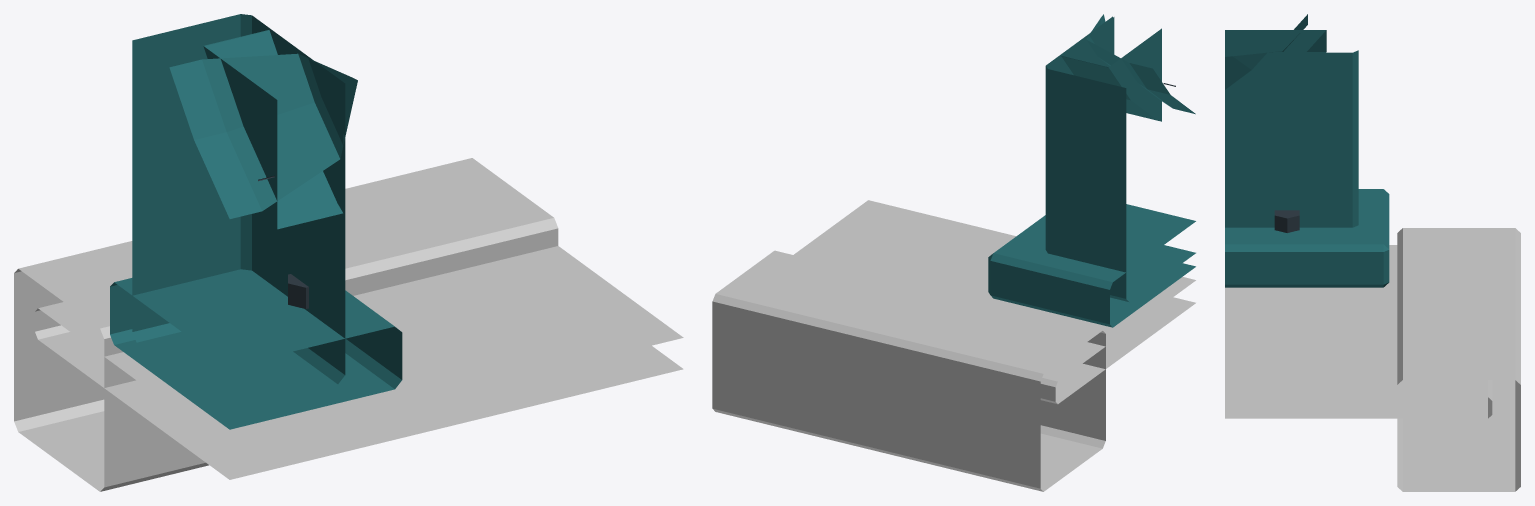
Rendered from cell_2.obj.
The picture shows the model from 3 angles, left to right: view 1: azimuth 30°, elevation 25°; view 2: azimuth 150°, elevation 25°; view 3: azimuth 270°, elevation 25°; orthographic projection. The views are drawn at different scales.
Bounding box in the file's own units: 1 × 1 × 0.8225.
